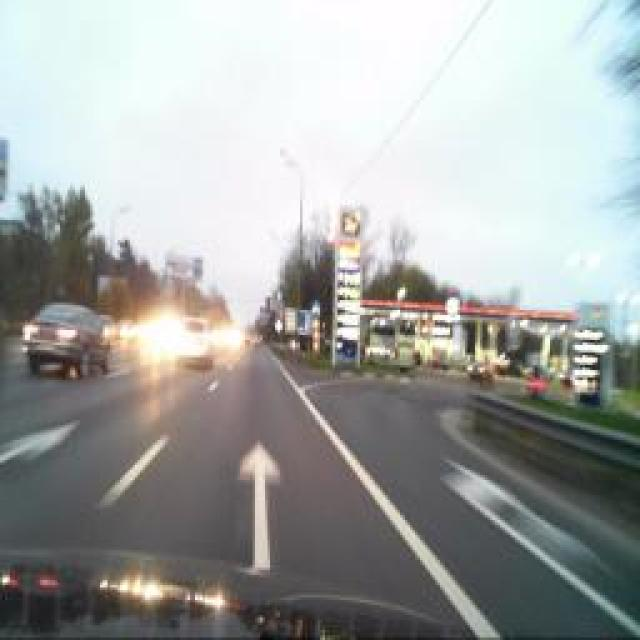sign: (310, 300, 320, 318)
